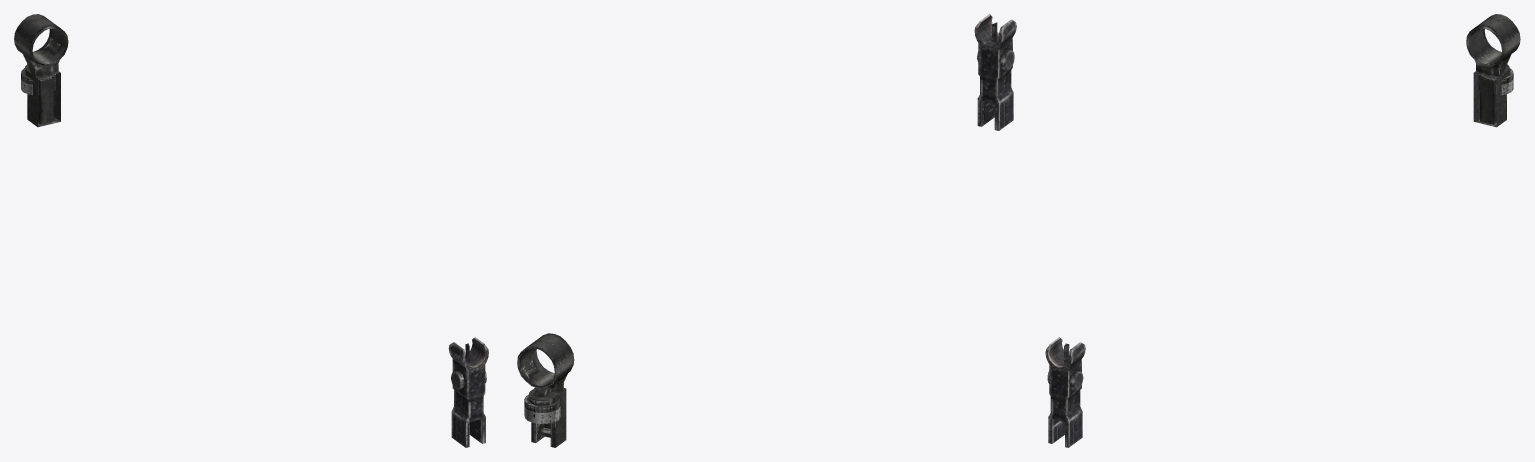
Rendered from pricel.obj.
3 views of the same model, side by side, from view 1: azimuth 30°, elevation 25°; view 2: azimuth 150°, elevation 25°; view 3: azimuth 330°, elevation 25° (orthographic). The views are drawn at different scales.
Visible parts, largest first — view 1: wpn34_vihlop; view 2: wpn34_vihlop; view 3: wpn34_vihlop.
Boxes of the visible parts, x1=… form: wpn34_vihlop: x1=14, y1=14, x2=488, y2=447; wpn34_vihlop: x1=517, y1=14, x2=1016, y2=447; wpn34_vihlop: x1=1045, y1=14, x2=1520, y2=447.
Bounding box in the file's own units: 0.0188 × 0.0504 × 0.382.
1 material, 1 textured.
